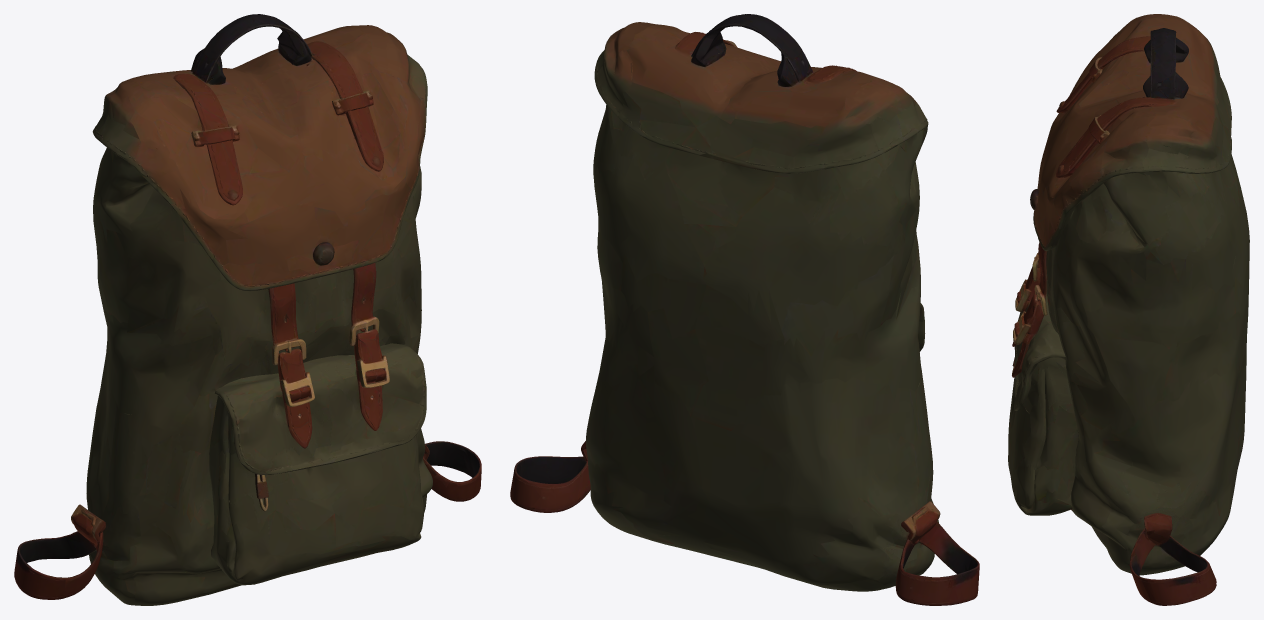
Rendered from mochila.glb.
The picture shows the model from 3 angles, left to right: view 1: azimuth 30°, elevation 25°; view 2: azimuth 150°, elevation 25°; view 3: azimuth 270°, elevation 25°; orthographic projection. The views are drawn at different scales.
Size of the model in its own units: 1.69 by 1.9 by 0.8584.
Materials: 1 (1 with a texture image).
